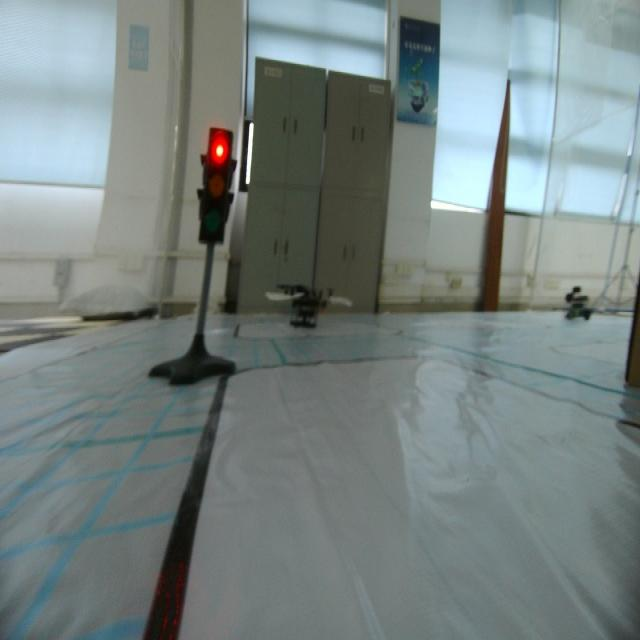red: (196, 116, 236, 246)
